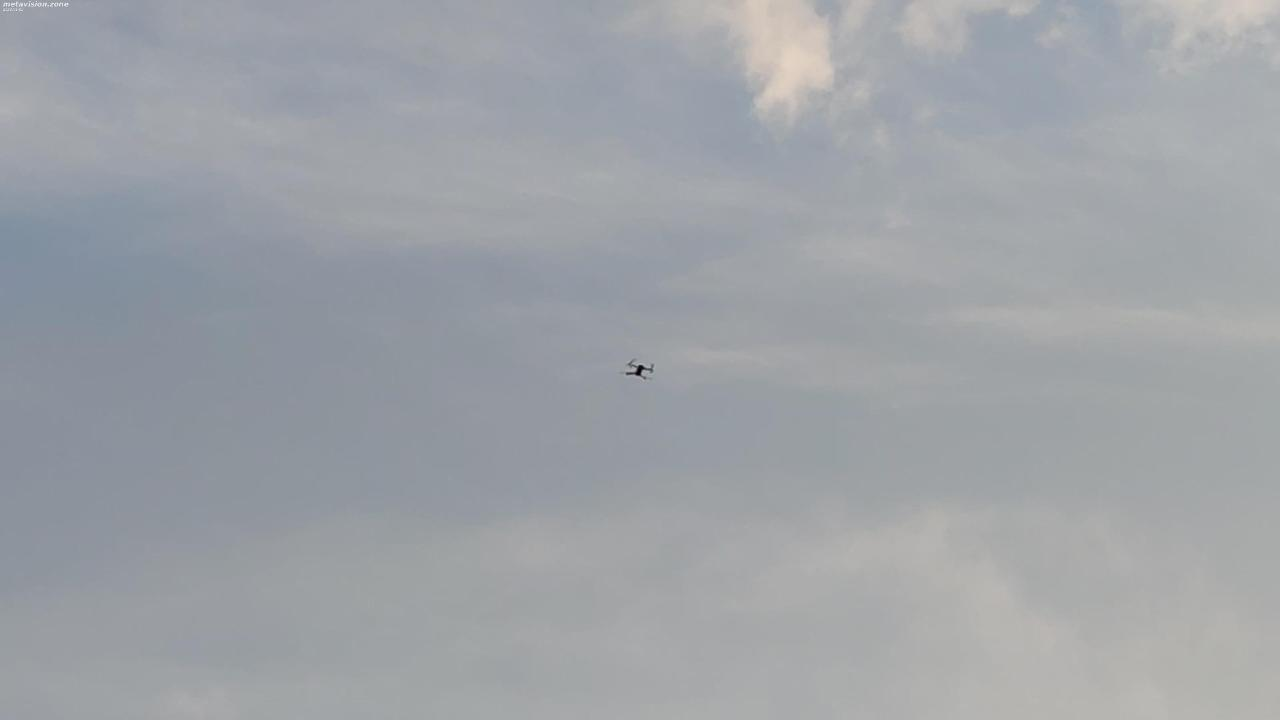drone: (615, 351, 663, 388)
